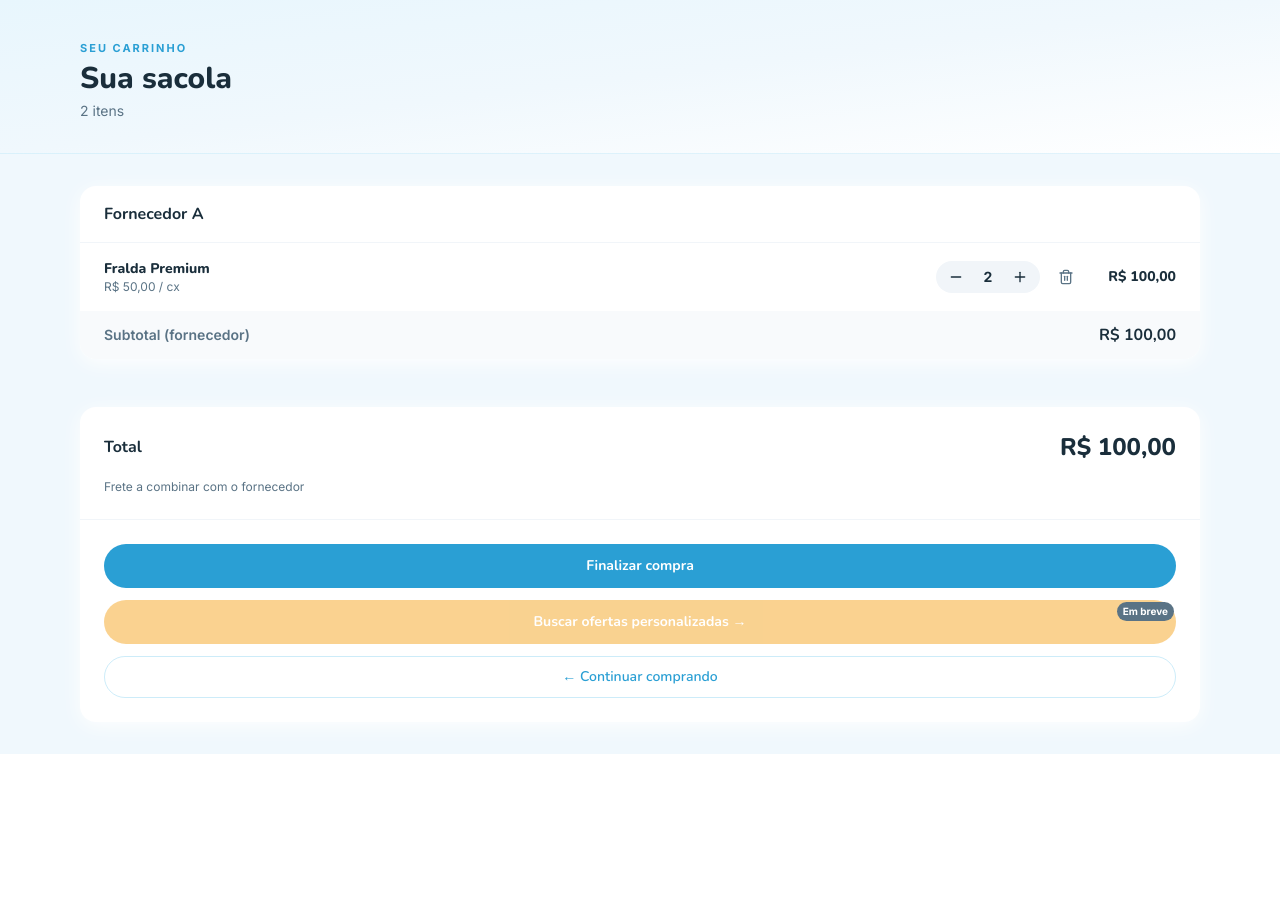
Test: SacolaPage › Cart with items › should increase quantity when clicking + button
# Click increase button
What coordinates should you click on to do the following:
click the button named "Aumentar quantidade"
I would click on:
 (1020, 276)
Its box is [1008,264,1032,288].
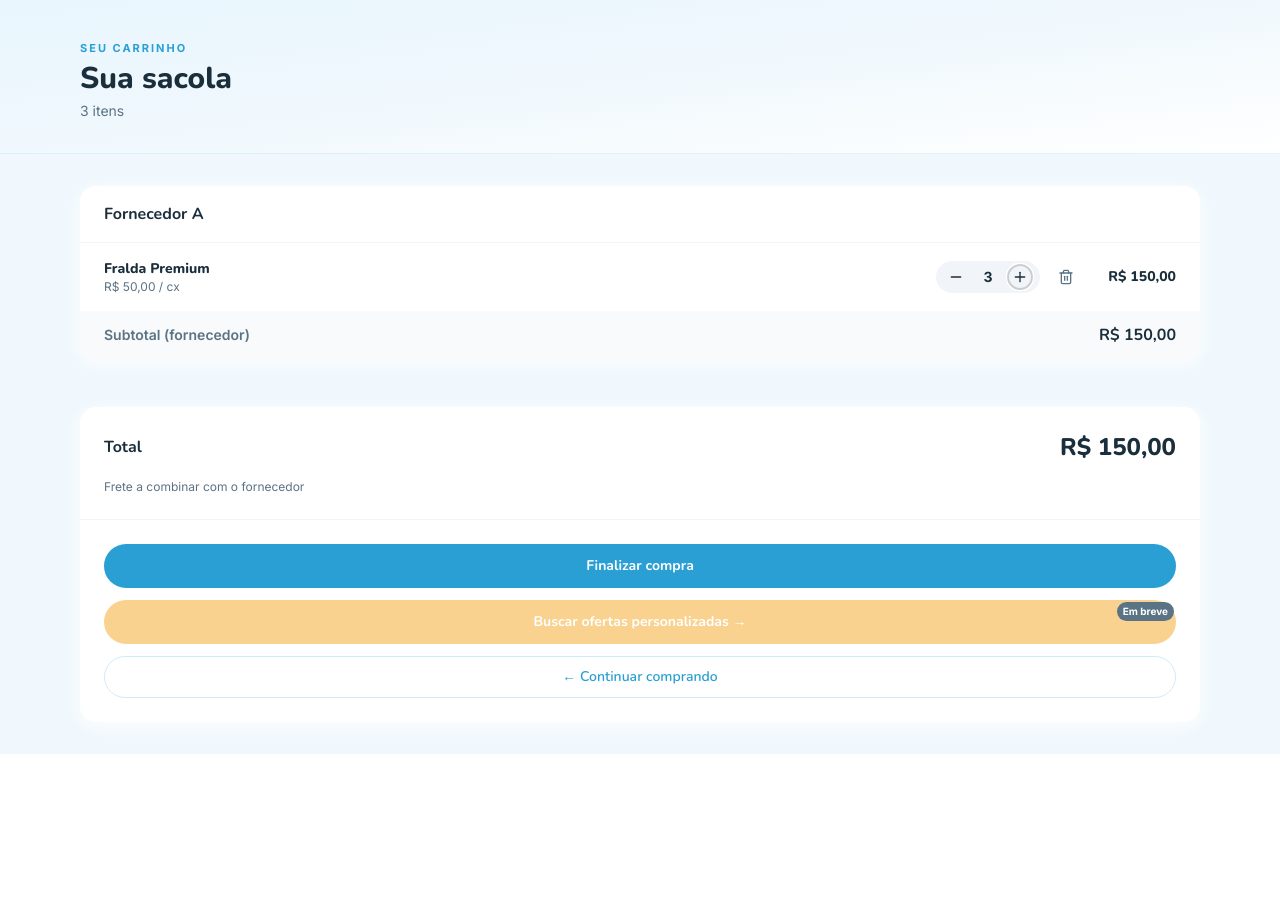
Expected: the text "3" is shown, [984,268,992,284]
